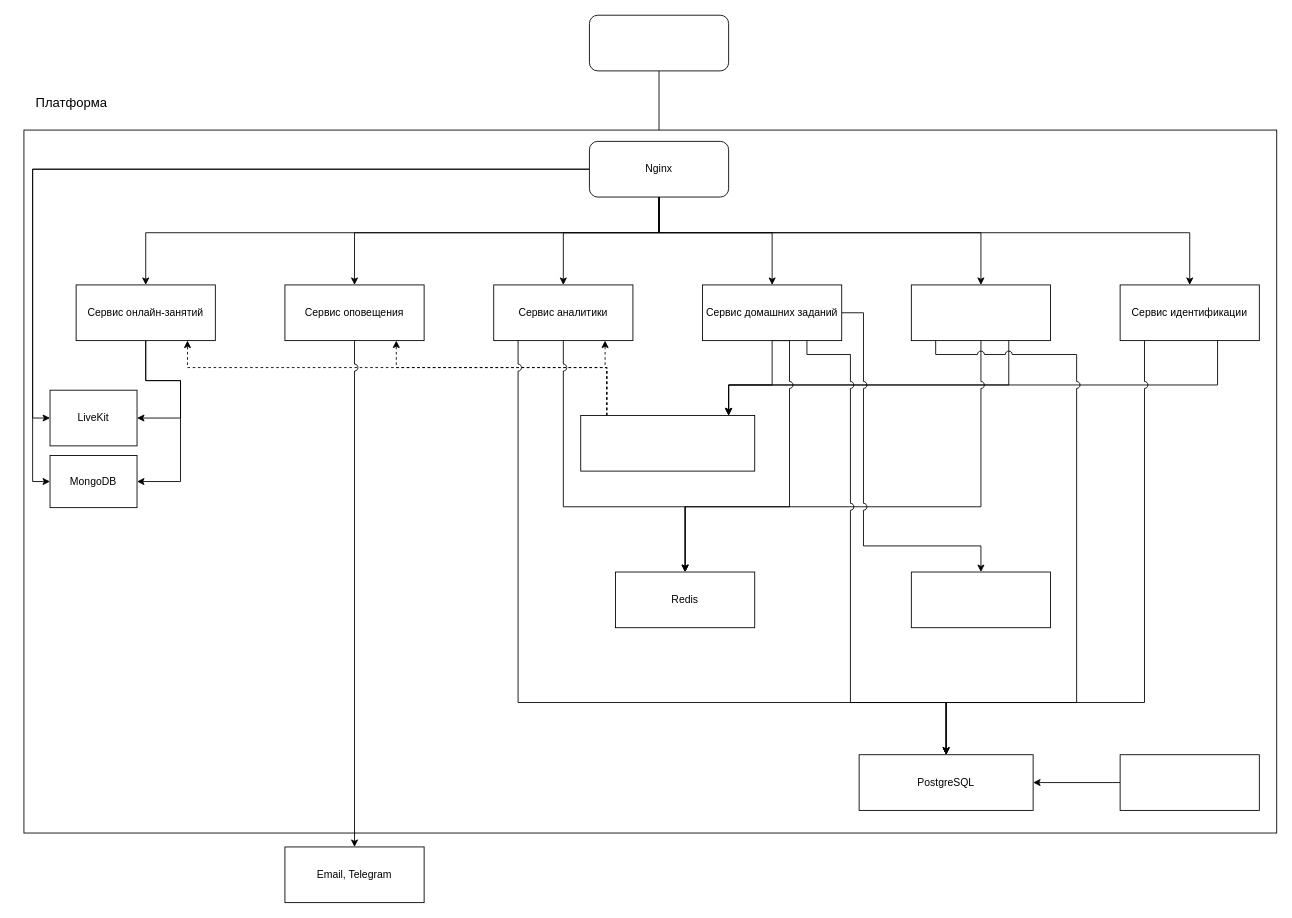
The diagram is 1292 pixels wide and 918 high, and some of its shapes have lost their labels. Here are the shapes that lost their labels. From the top down, the centre of each, then its label:
the point at 659,42: Клиент
the point at 980,312: Сервис обучения
the point at 667,443: Брокер сообщений
the point at 980,599: S3 хранилище
the point at 1189,782: Парсер для банка заданий
